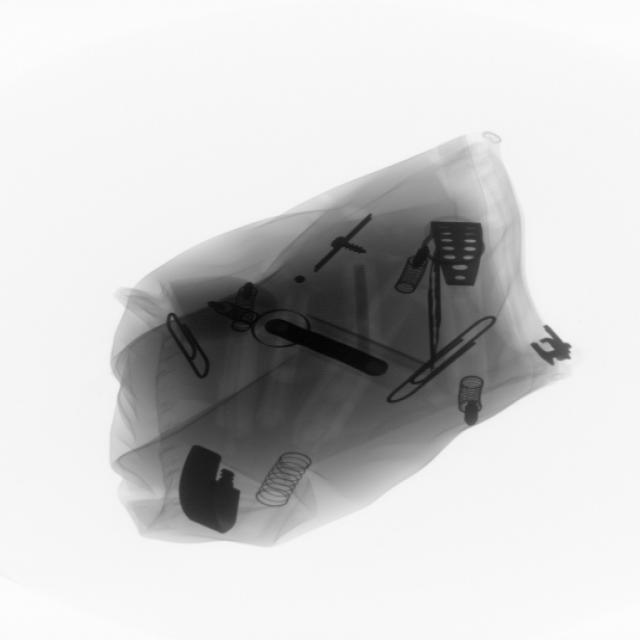SHURIKEN: (419, 254, 451, 377)
